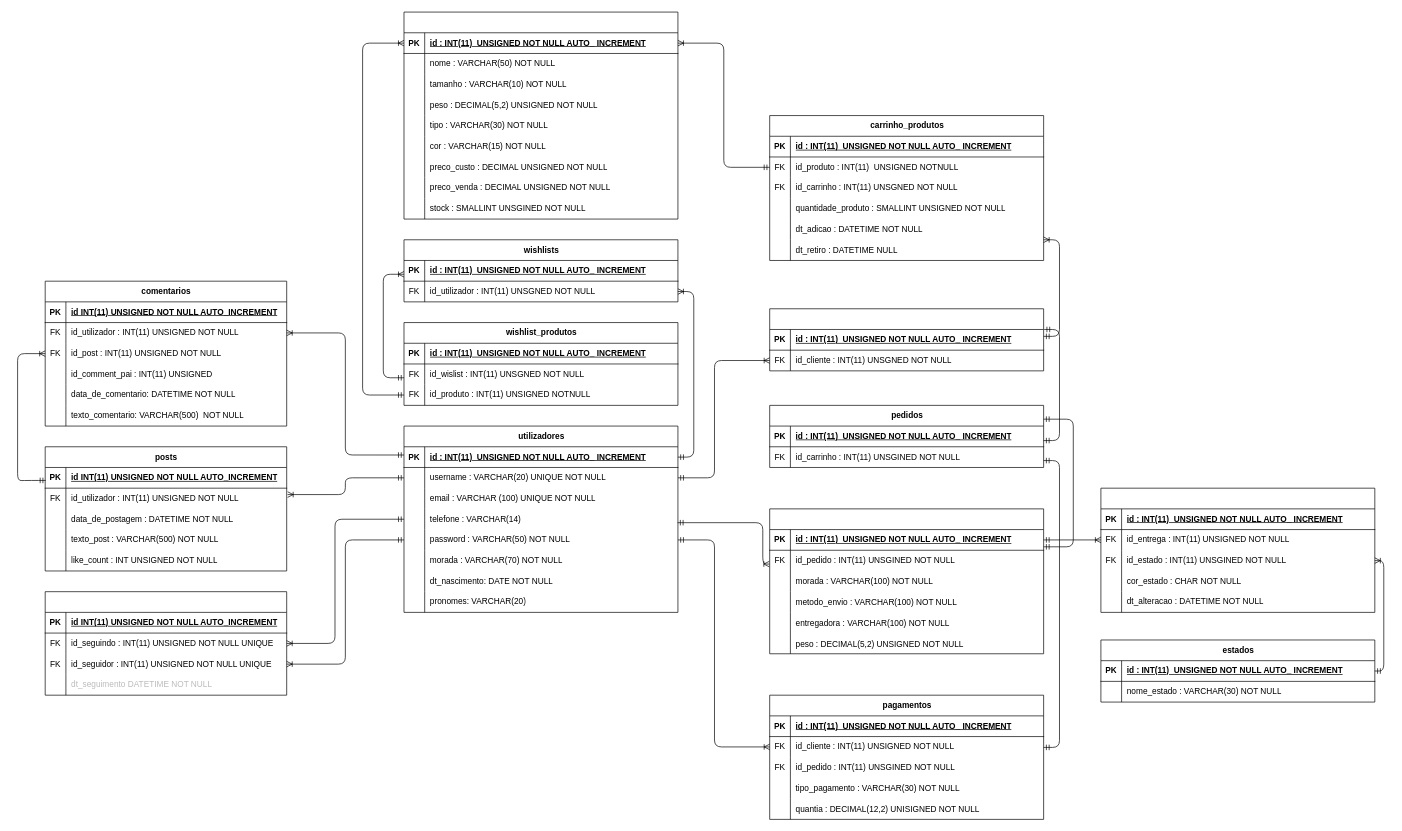
Image size: 1402x831. Some labels were removed from this diagram. The shapes that lost their labels are listed below. From the top down, each one's box as (x1, y1, x2, y2) in pixels, then its label:
(403, 11, 678, 219): produtos
(769, 308, 1044, 371): carrinhos
(1100, 487, 1375, 612): estado_entregas
(769, 508, 1044, 654): entregas
(45, 591, 287, 695): followship
